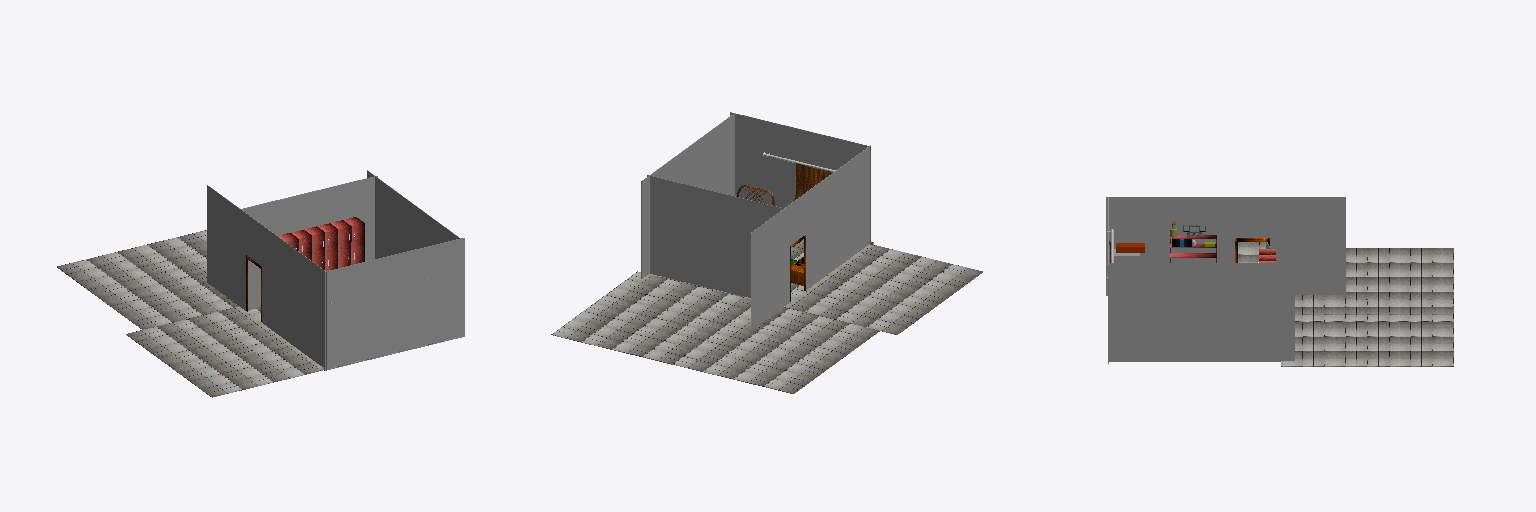
3 renders of one model, left to right at view 1: azimuth 30°, elevation 25°; view 2: azimuth 150°, elevation 25°; view 3: azimuth 270°, elevation 25°, orthographic.
Visible parts, largest first — view 1: Cube.002_Cube.033, Cube, Cube.019_Cube.021, Cube.004, Cube.003, Cube.037_Cube.039, Cube.001, Cube.020_Cube.035, Cube.017_Cube.034, Cube.016_Cube.020, Cube.026_Cube.029; view 2: Cube.019_Cube.021, Cube.003, Cube, Cube.002_Cube.033, Cube.004, Cube.037_Cube.039, Cube.001, Cube.033_Cube.005; view 3: Cube.001, Cube.019_Cube.021, Cube.037_Cube.039, Cube.004.
Boxes of the visible parts, box(x1,y1,x2,y2) form: Cube.002_Cube.033: box(324, 238, 464, 370); Cube: box(126, 306, 458, 397); Cube.019_Cube.021: box(57, 230, 238, 329); Cube.004: box(262, 225, 326, 370); Cube.003: box(241, 176, 377, 261); Cube.037_Cube.039: box(207, 185, 261, 310); Cube.001: box(367, 170, 460, 258); Cube.020_Cube.035: box(330, 217, 364, 267); Cube.017_Cube.034: box(304, 223, 337, 270); Cube.016_Cube.020: box(248, 260, 260, 310); Cube.026_Cube.029: box(278, 230, 311, 260); Cube.019_Cube.021: box(551, 271, 879, 393); Cube.003: box(647, 175, 783, 297); Cube: box(650, 239, 982, 334); Cube.002_Cube.033: box(730, 112, 870, 241); Cube.004: box(806, 145, 870, 289); Cube.037_Cube.039: box(751, 192, 806, 330); Cube.001: box(641, 113, 734, 278); Cube.033_Cube.005: box(794, 163, 832, 200); Cube.001: box(1109, 263, 1294, 361); Cube.019_Cube.021: box(1281, 248, 1453, 366); Cube.037_Cube.039: box(1235, 197, 1345, 294); Cube.004: box(1106, 197, 1234, 295).
Bounding box in the file's own units: 77.85 × 29.23 × 90.23.
99 materials, 5 textured.